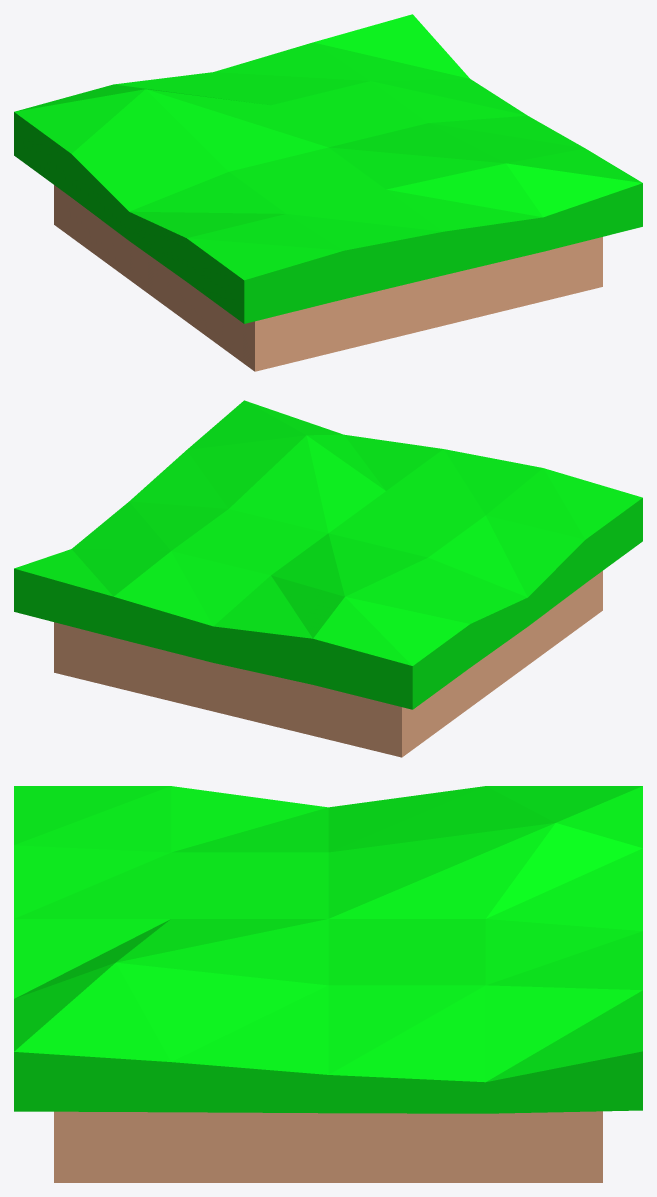
Rendered from platforma.fbx.
3 renders of one model, top to bottom at view 1: azimuth 30°, elevation 25°; view 2: azimuth 150°, elevation 25°; view 3: azimuth 270°, elevation 25°, orthographic. The views are drawn at different scales.
Parts seen in each view (by area): view 1: Cube; view 2: Cube; view 3: Cube.
Boxes of the visible parts, x1,y1,x2,y2 form: Cube: (14,14,642,371); Cube: (14,400,642,757); Cube: (14,786,642,1182).
Bounding box in the file's own units: 687 × 214 × 687.
